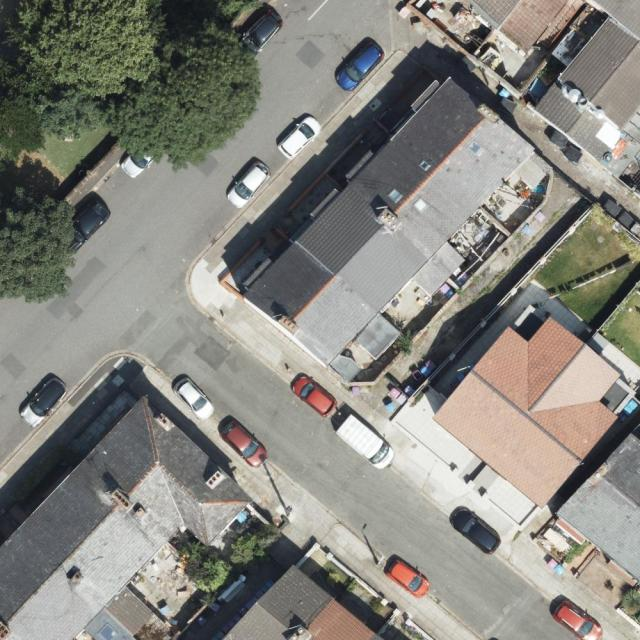roof: (241, 73, 539, 366), (0, 397, 250, 640), (433, 314, 623, 504), (469, 0, 640, 166), (552, 429, 640, 586), (224, 564, 390, 640)
skylight: (98, 623, 117, 640), (413, 197, 428, 214), (387, 188, 402, 204), (467, 141, 482, 157), (417, 158, 432, 172)
